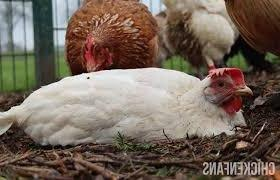AbNormal: (207, 67, 247, 88)
